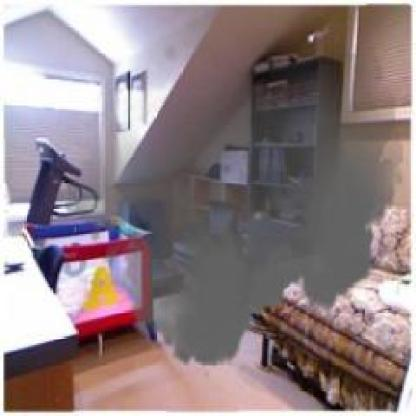Smoke: (55, 28, 404, 378)
